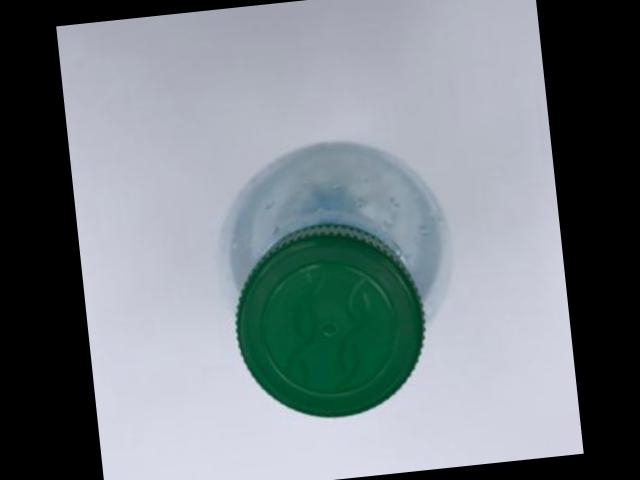plastic: (220, 144, 448, 418)
